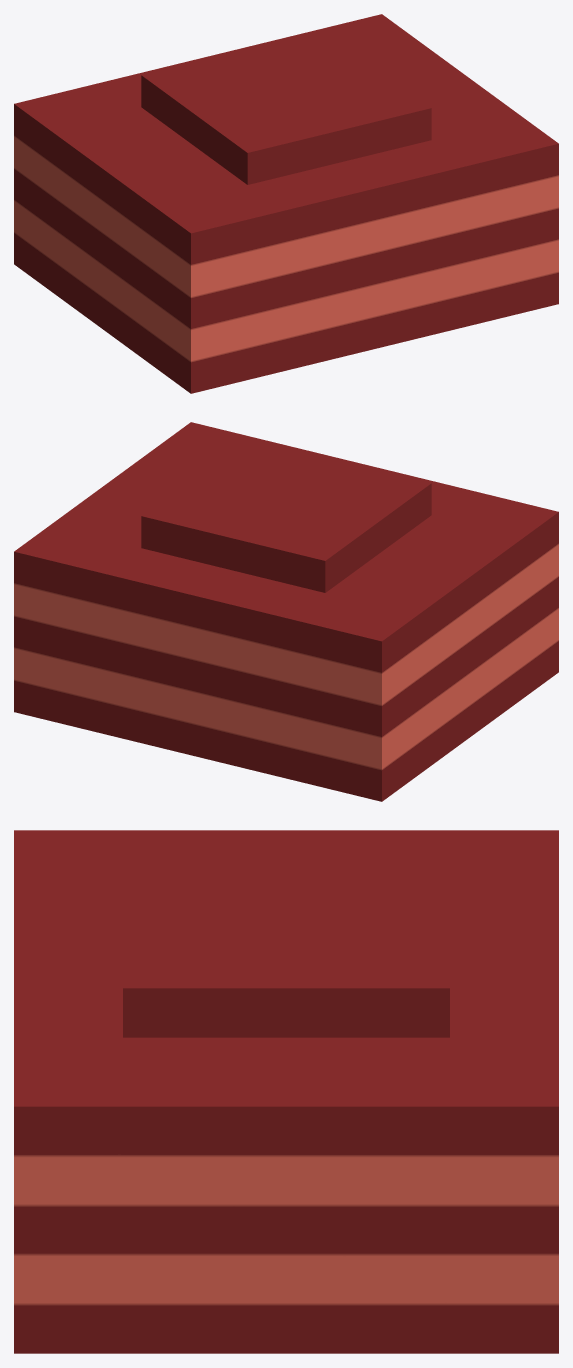
File: Chest031.fbx
3 renders of one model, top to bottom at view 1: azimuth 30°, elevation 25°; view 2: azimuth 150°, elevation 25°; view 3: azimuth 270°, elevation 25°, orthographic. The views are drawn at different scales.
Visible parts, largest first — view 1: Chest031; view 2: Chest031; view 3: Chest031.
Boxes of the visible parts, x1,y1,x2,y2 form: Chest031: (14, 14, 558, 393); Chest031: (14, 422, 558, 801); Chest031: (14, 830, 558, 1353).
Bounding box in the file's own units: 12 × 6 × 10.
